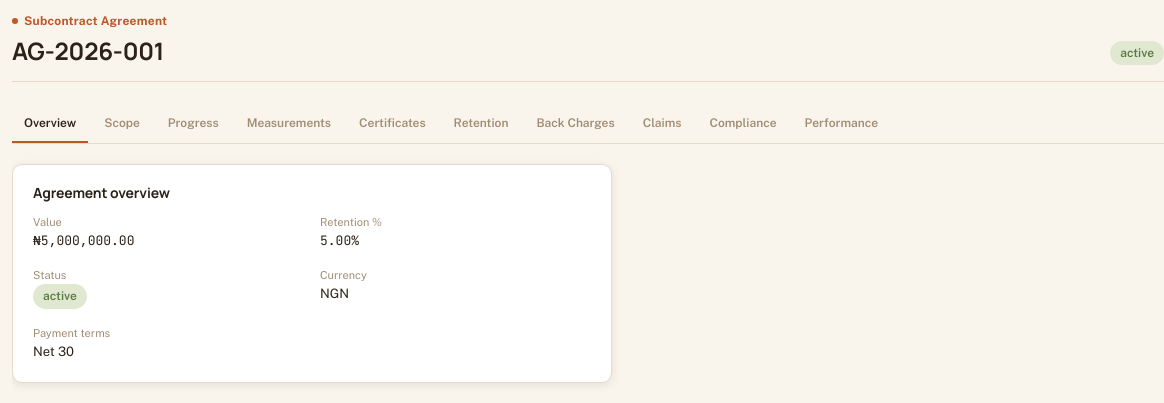
AgreementDetailPage › shows a real, honest empty state on Certificates when there are no verified sheets available
Expected: the heading "AG-2026-001" is shown, x1=12 y1=37 x2=167 y2=65
Click the button "Certificates" at x=392, y=125, box x1=347 y1=106 x2=438 y2=143
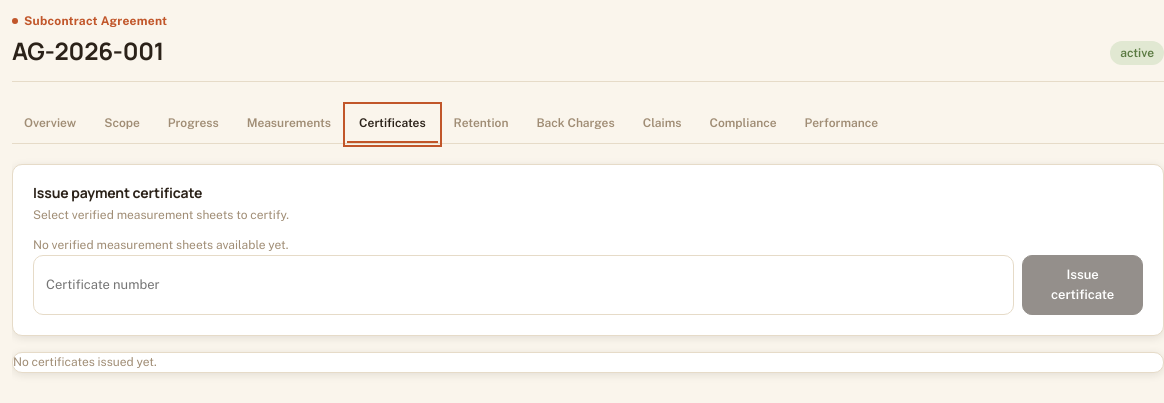
Expected: the text "No verified measurement sheets available yet." is shown, x1=33 y1=238 x2=288 y2=252
